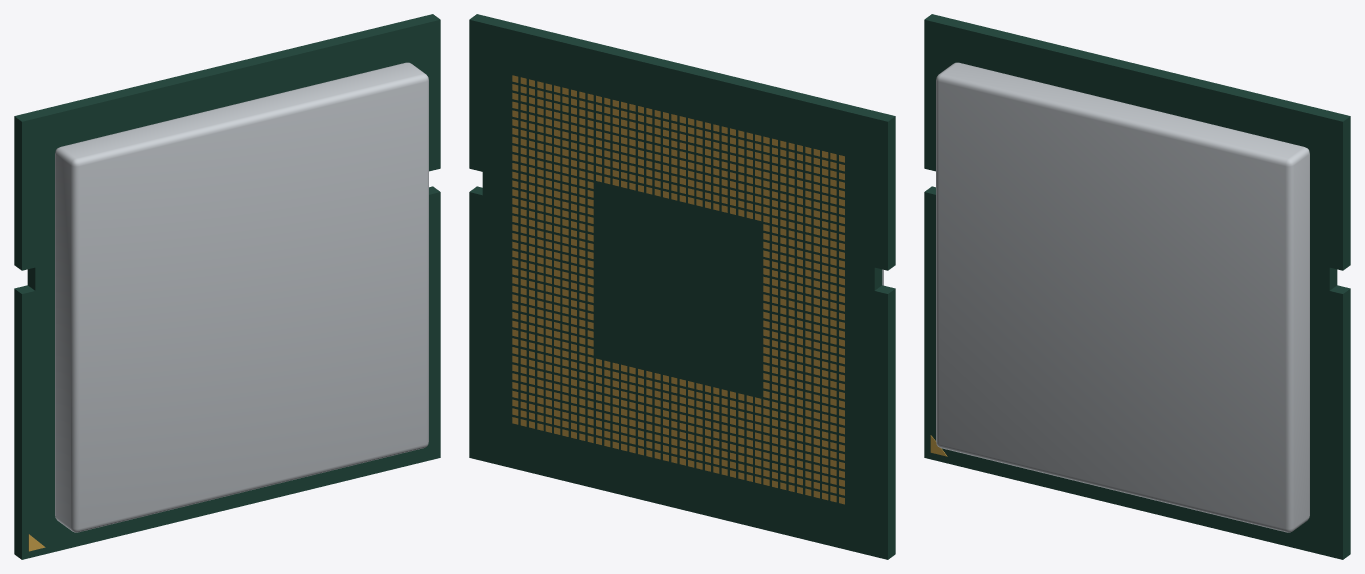
Rendered from g_cpu.glb.
3 views of the same model, side by side, from view 1: azimuth 30°, elevation 25°; view 2: azimuth 150°, elevation 25°; view 3: azimuth 330°, elevation 25° (orthographic).
Visible parts, largest first — view 1: part_cpu; view 2: part_cpu; view 3: part_cpu.
Boxes of the visible parts, <box> form: part_cpu: <box>14,14,440,559</box>; part_cpu: <box>469,14,895,559</box>; part_cpu: <box>924,14,1350,559</box>.
Size of the model in its own units: 0.375 by 0.375 by 0.045.
